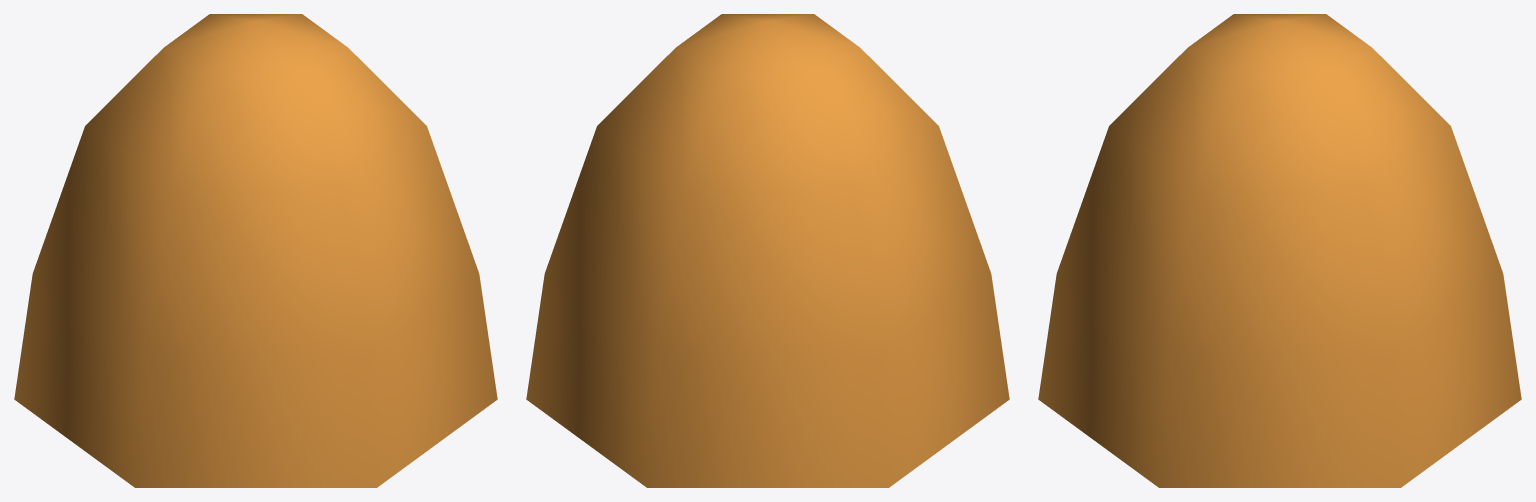
The model's file is Hay-1.fbx.
3 views of the same model, side by side, from view 1: azimuth 30°, elevation 25°; view 2: azimuth 150°, elevation 25°; view 3: azimuth 270°, elevation 25° (orthographic).
Parts seen in each view (by area): view 1: Sphere.014; view 2: Sphere.014; view 3: Sphere.014.
Part boxes in pixels (x1,y1,x2,y2): Sphere.014: (14, 14, 497, 487); Sphere.014: (526, 14, 1009, 487); Sphere.014: (1038, 14, 1521, 487).
Size of the model in its own units: 29.74 by 29.6 by 34.34.
